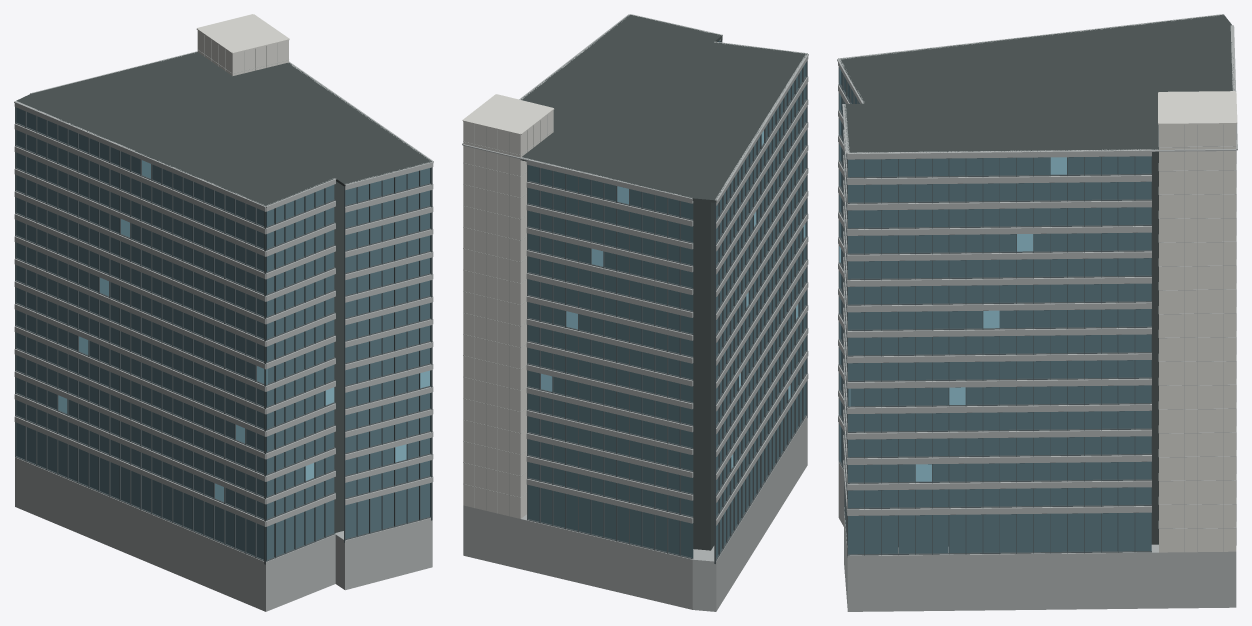
File: wacker_250.glb
The picture shows the model from 3 angles, left to right: view 1: azimuth 30°, elevation 25°; view 2: azimuth 150°, elevation 25°; view 3: azimuth 270°, elevation 25°; orthographic projection. The views are drawn at different scales.
Parts seen in each view (by area): view 1: Wacker250 recessed blue green glazing, Wacker250 silver metal floor spandrels, Wacker250 dark roof and interior, Wacker250 thin dark curtainwall frames, Wacker250 opaque white glazed feature panels, Night occupied Wacker250 glazing; view 2: Wacker250 recessed blue green glazing, Wacker250 silver metal floor spandrels, Wacker250 dark roof and interior, Wacker250 thin dark curtainwall frames, Wacker250 opaque white glazed feature panels, Wacker250 pale grey feature panel joints, Night occupied Wacker250 glazing; view 3: Wacker250 recessed blue green glazing, Wacker250 silver metal floor spandrels, Wacker250 dark roof and interior, Wacker250 opaque white glazed feature panels, Wacker250 thin dark curtainwall frames, Wacker250 pale grey feature panel joints, Night occupied Wacker250 glazing.
Boxes of the visible parts, x1,y1,x2,y2 form: Wacker250 recessed blue green glazing: (16,107,430,560); Wacker250 silver metal floor spandrels: (14,51,433,611); Wacker250 dark roof and interior: (16,52,431,532); Wacker250 thin dark curtainwall frames: (15,107,432,564); Wacker250 opaque white glazed feature panels: (196,14,289,75); Night occupied Wacker250 glazing: (58,160,429,501); Wacker250 recessed blue green glazing: (528,41,806,557); Wacker250 silver metal floor spandrels: (462,14,808,611); Wacker250 dark roof and interior: (520,15,806,550); Wacker250 thin dark curtainwall frames: (527,38,807,563); Wacker250 opaque white glazed feature panels: (462,94,554,518); Wacker250 pale grey feature panel joints: (463,115,553,515); Night occupied Wacker250 glazing: (541,130,805,468); Wacker250 recessed blue green glazing: (839,68,1151,554); Wacker250 silver metal floor spandrels: (837,14,1237,611); Wacker250 dark roof and interior: (840,14,1234,546); Wacker250 opaque white glazed feature panels: (1158,91,1237,552); Wacker250 thin dark curtainwall frames: (838,67,1151,557); Wacker250 pale grey feature panel joints: (1158,124,1236,551); Night occupied Wacker250 glazing: (839,157,1066,481).
Size of the model in its own units: 42.9 by 69.3 by 51.9.
